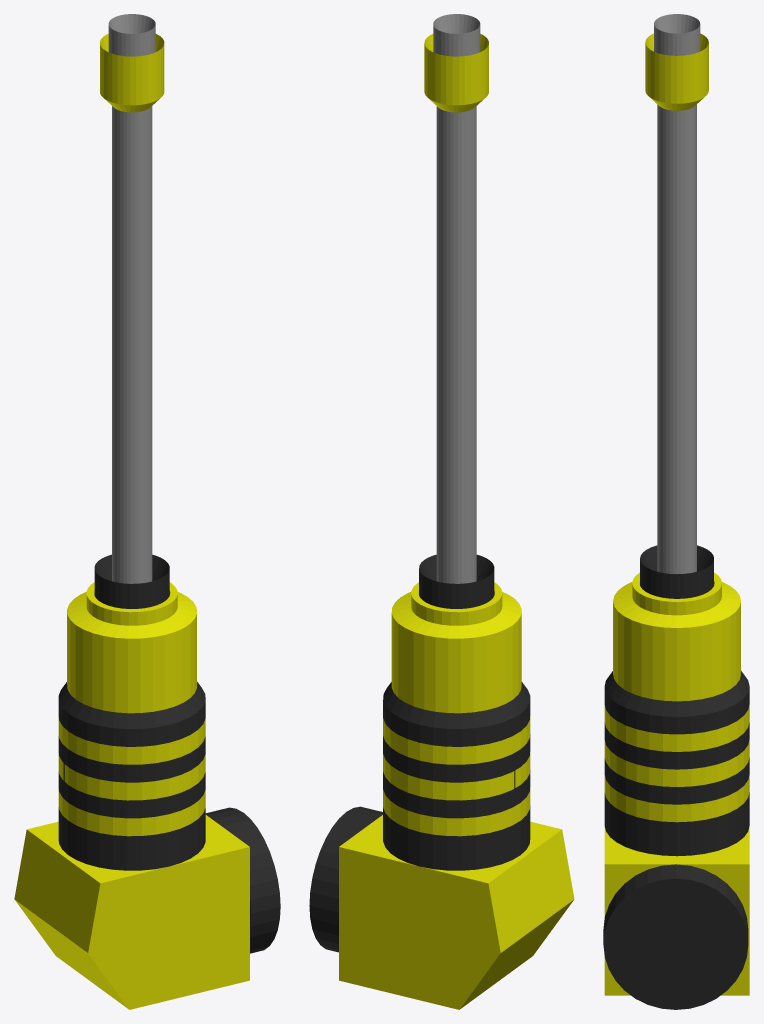
The model's file is PistonGun.fbx.
3 views of the same model, side by side, from view 1: azimuth 30°, elevation 25°; view 2: azimuth 150°, elevation 25°; view 3: azimuth 270°, elevation 25° (orthographic).
Visible parts, largest first — view 1: Circle.001; view 2: Circle.001; view 3: Circle.001.
Boxes of the visible parts, x1,y1,x2,y2 form: Circle.001: [14, 14, 280, 1009]; Circle.001: [309, 14, 574, 1009]; Circle.001: [603, 14, 749, 1009].
Bounding box in the file's own units: 300 × 1420 × 202.
